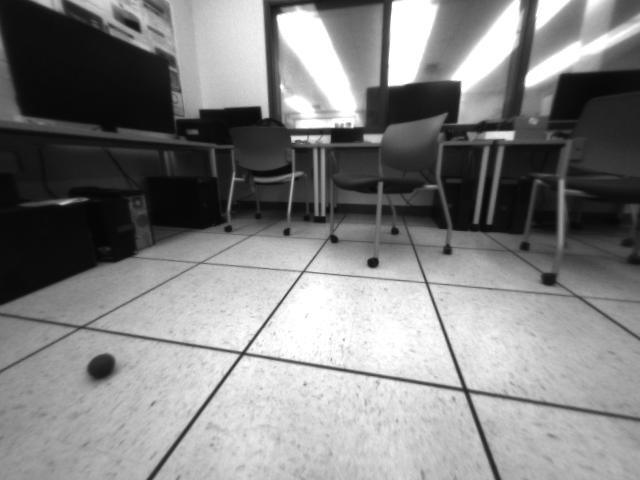dogtoy: (83, 347, 123, 387)
